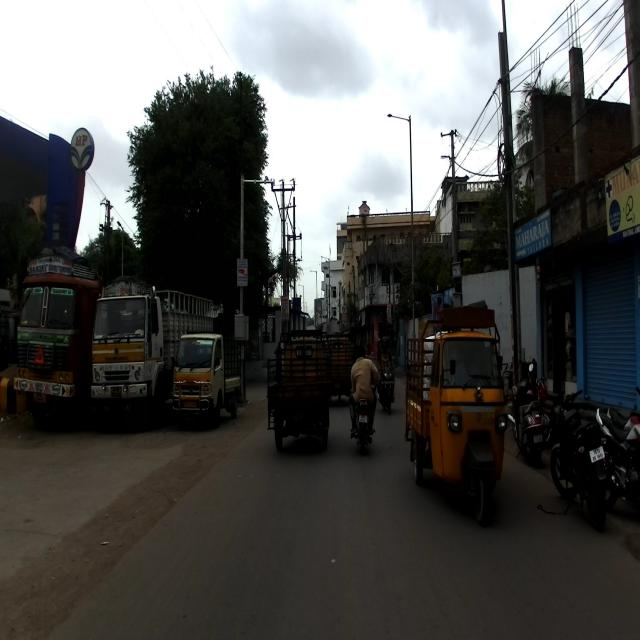autorickshaw: (405, 298, 512, 522), (266, 329, 332, 451)
motorcycle_Hero: (348, 382, 376, 455)
motorcycle_bajaj: (544, 388, 612, 526)
scooter: (510, 361, 548, 470)
truck: (88, 277, 214, 432), (173, 330, 246, 429)
